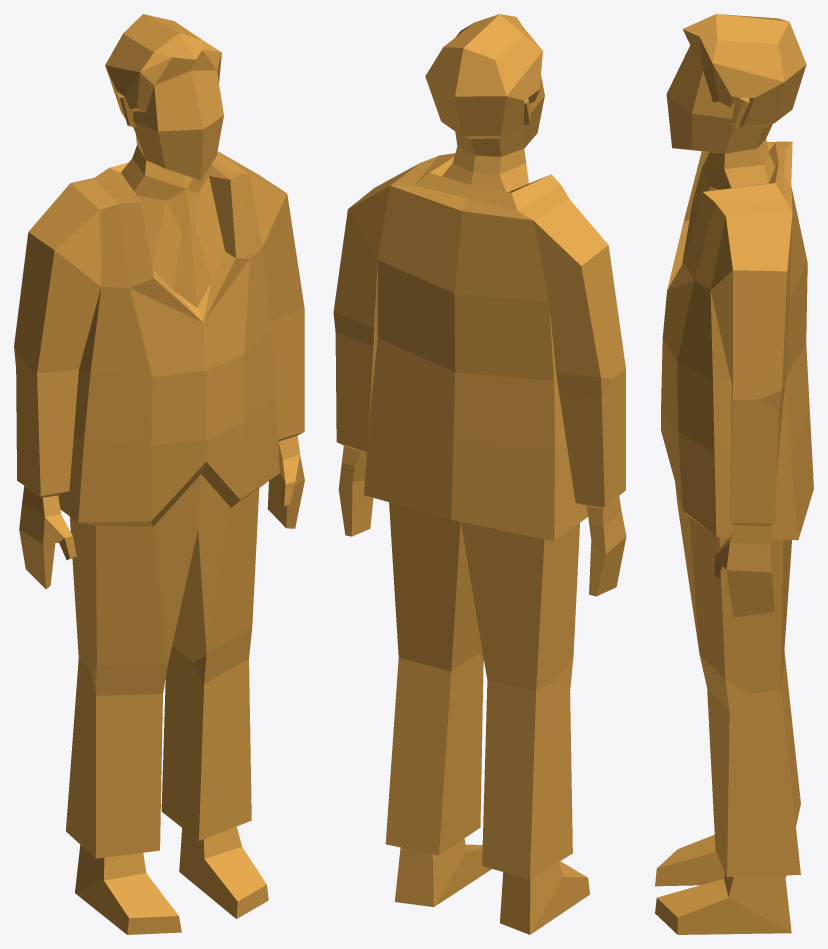
Rendered from man-suit.fbx.
3 views of the same model, side by side, from view 1: azimuth 30°, elevation 25°; view 2: azimuth 150°, elevation 25°; view 3: azimuth 270°, elevation 25° (orthographic).
Visible parts, largest first — view 1: man-suit; view 2: man-suit; view 3: man-suit.
Boxes of the visible parts, bbox=[...] form: man-suit: bbox=[14, 14, 304, 934]; man-suit: bbox=[333, 14, 626, 934]; man-suit: bbox=[655, 14, 813, 934].
Bounding box in the file's own units: 0.5881 × 1.83 × 0.2976.
